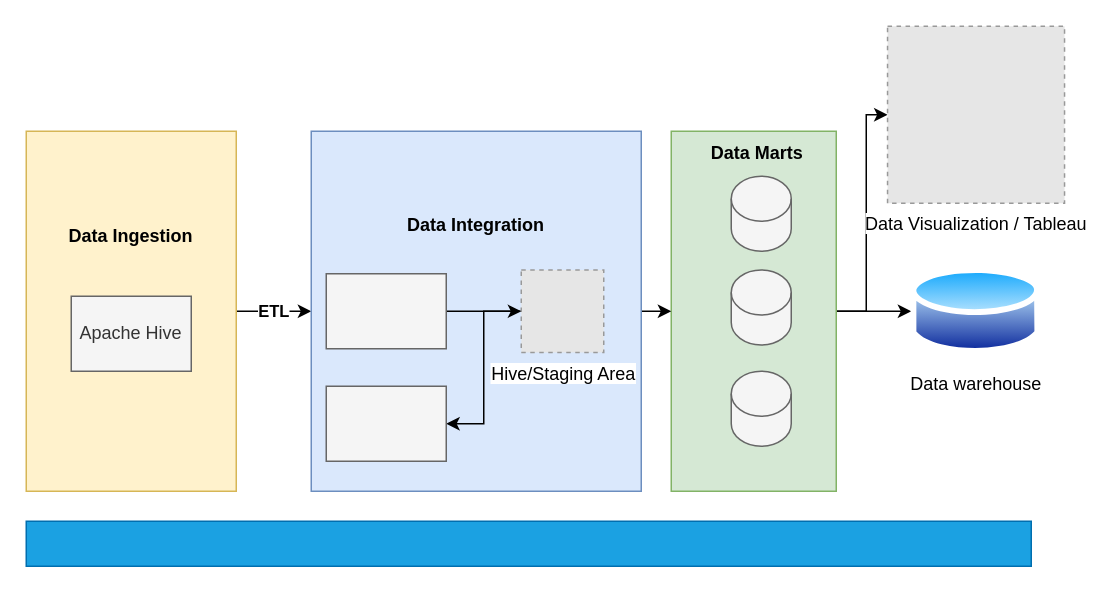
Image size: 1113x593. Some labels were removed from this diagram. Grey dashed boxes stand in for pictures. Each missing label, with the box of its shape:
Apache SparkR: (325, 272, 446, 349)
Data Pipeline - Apache Airflow: (25, 520, 1031, 566)
SparkR/Data Validation: (325, 385, 446, 461)
